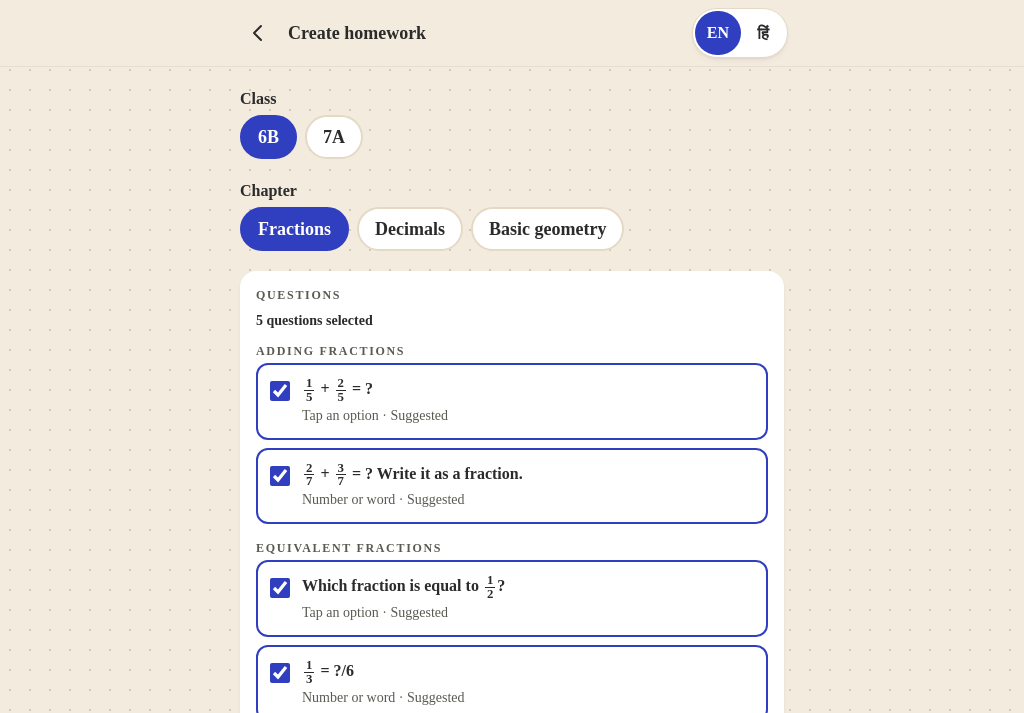
Test case: Create homework › explains why publish is disabled when no question is picked
This screenshot has width=1024, height=713.
Expected: the text "5 questions selected" is shown, [256,313,373,328]
Step 1. Click the checkbox labelled "1 5 + 2 5 = ? Tap an option · Suggested" → [280, 391], box [270,381,290,401]
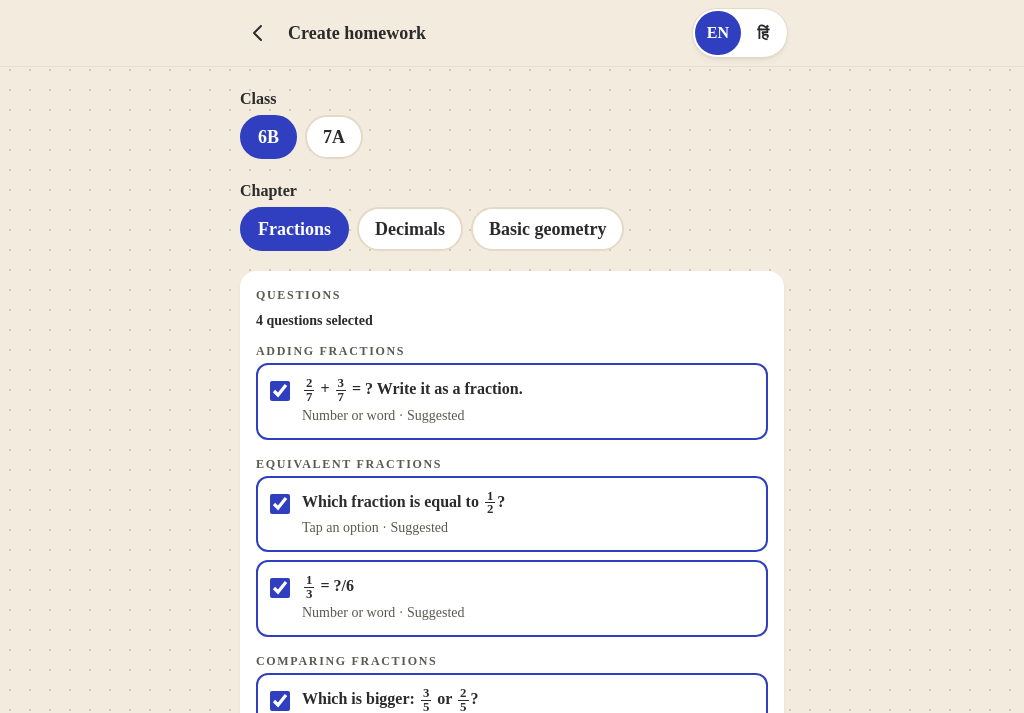
Step 2. Click the 1st checkbox → [280, 391], box [270,381,290,401]
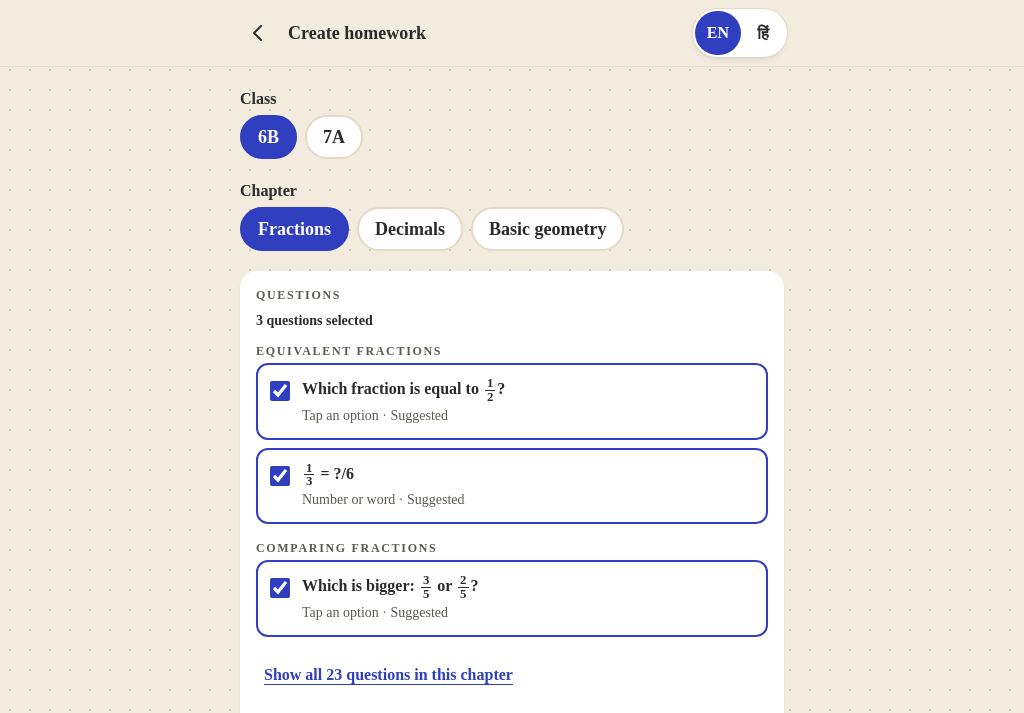
Step 3. Click the checkbox labelled "Which fraction is equal to 1 2 ? Tap an option · Suggested" → [280, 391], box [270,381,290,401]
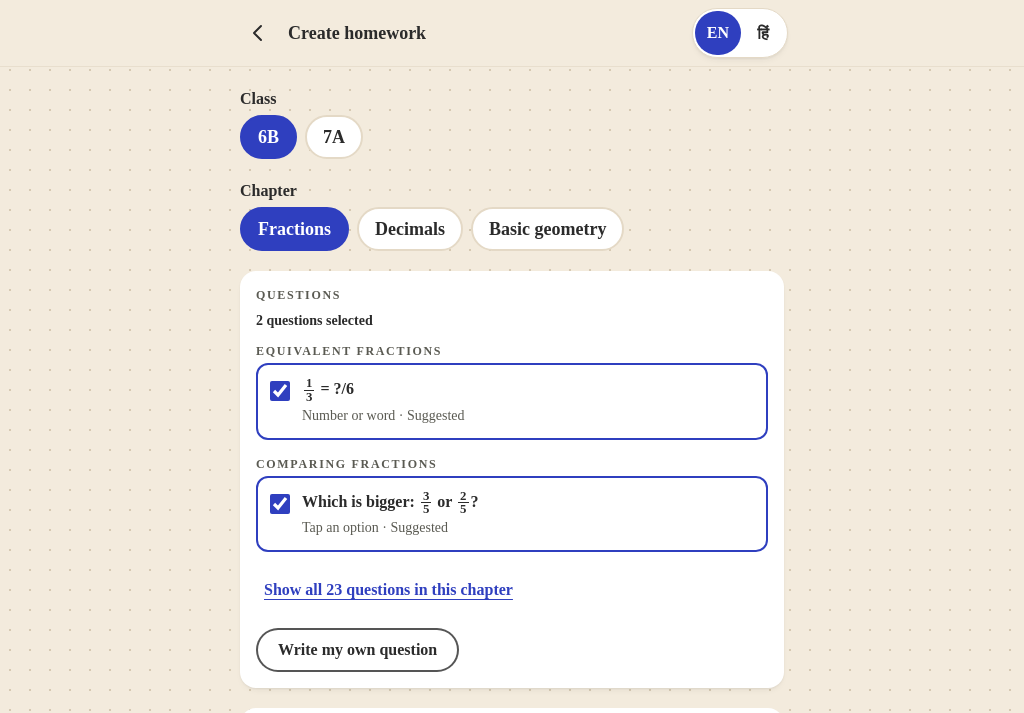
Step 4. Click the checkbox labelled "1 3 = ?/6 Number or word · Suggested" → [280, 391], box [270,381,290,401]
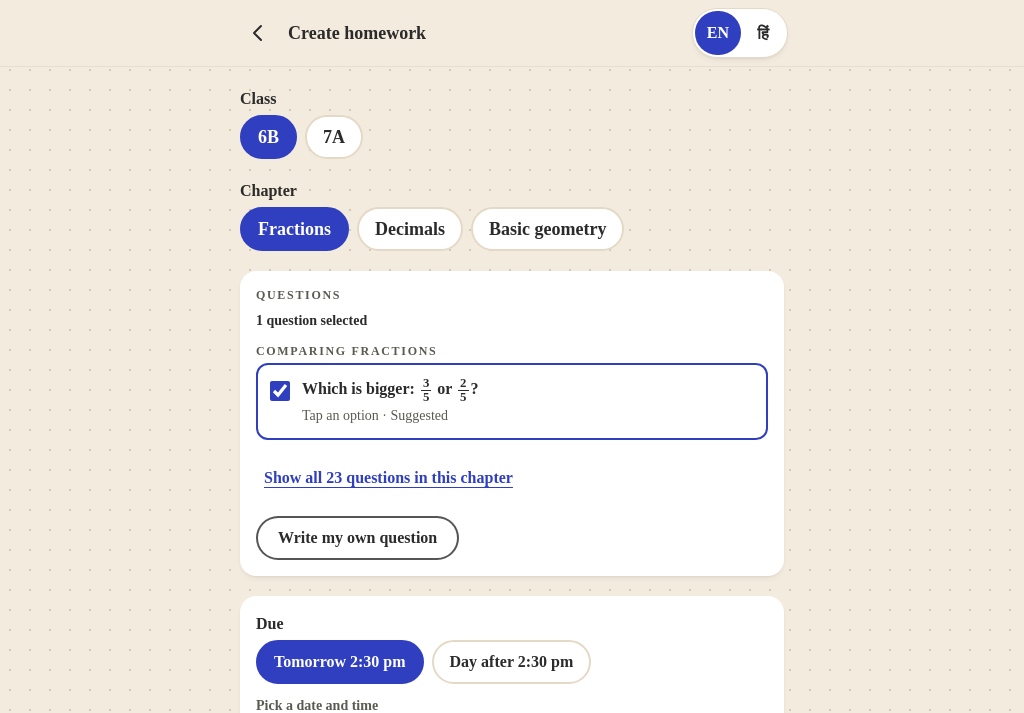
Step 5. Click the checkbox → [280, 391], box [270,381,290,401]
(page scrolled)
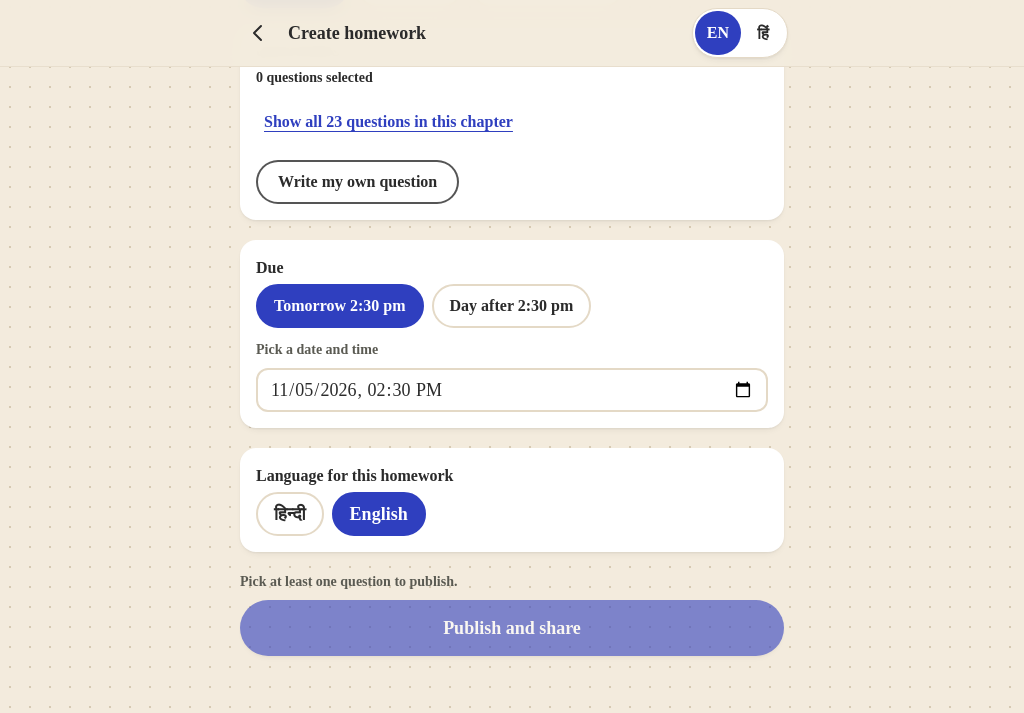
Result: the button "Publish and share" is disabled at [240,600,784,656]
Result: the text "Pick at least one question to publish." is shown at [240,574,457,589]
